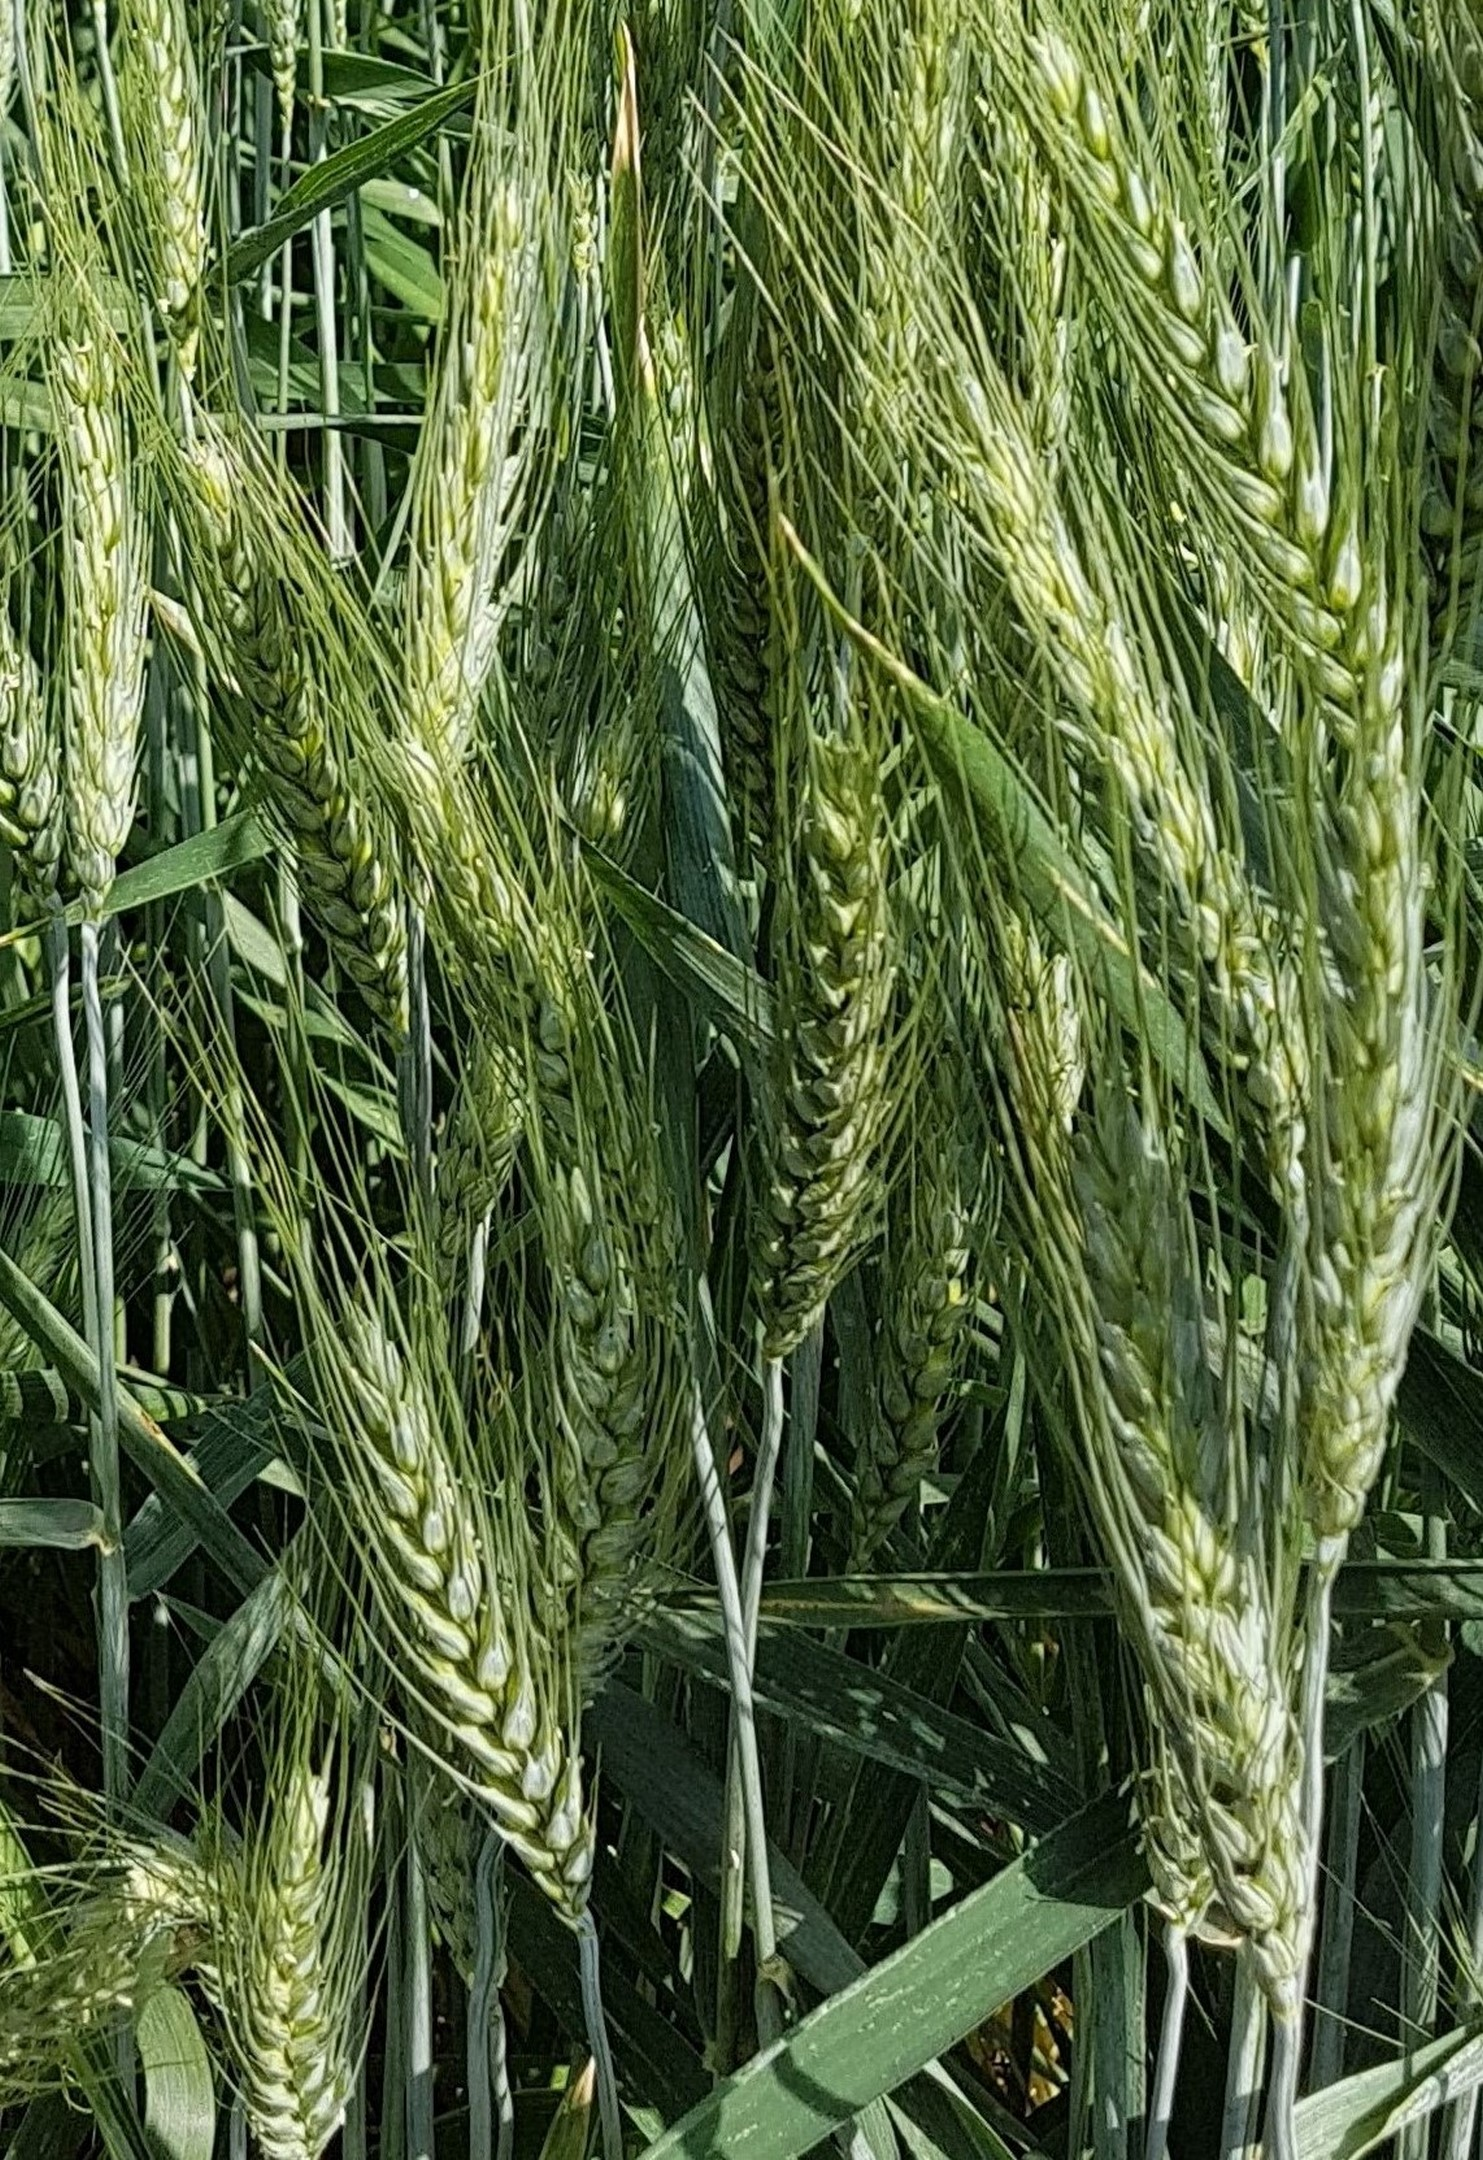Healthy Wheat: (1012, 48, 1426, 696), (299, 1338, 623, 1901)
